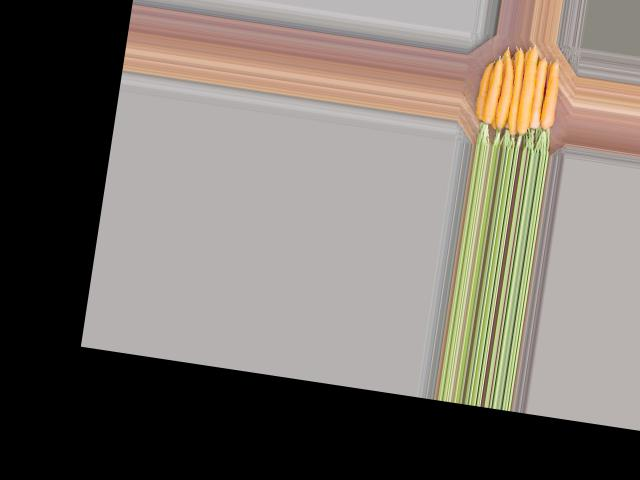carrot: (469, 51, 497, 122)
